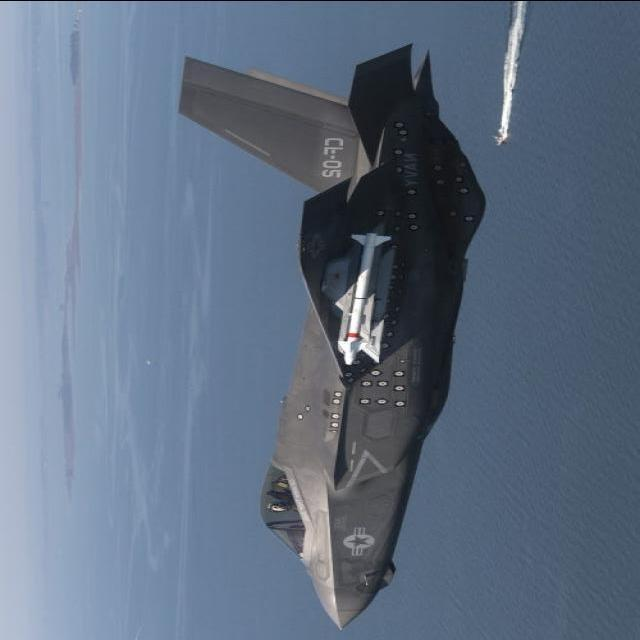missile: (336, 224, 398, 364)
